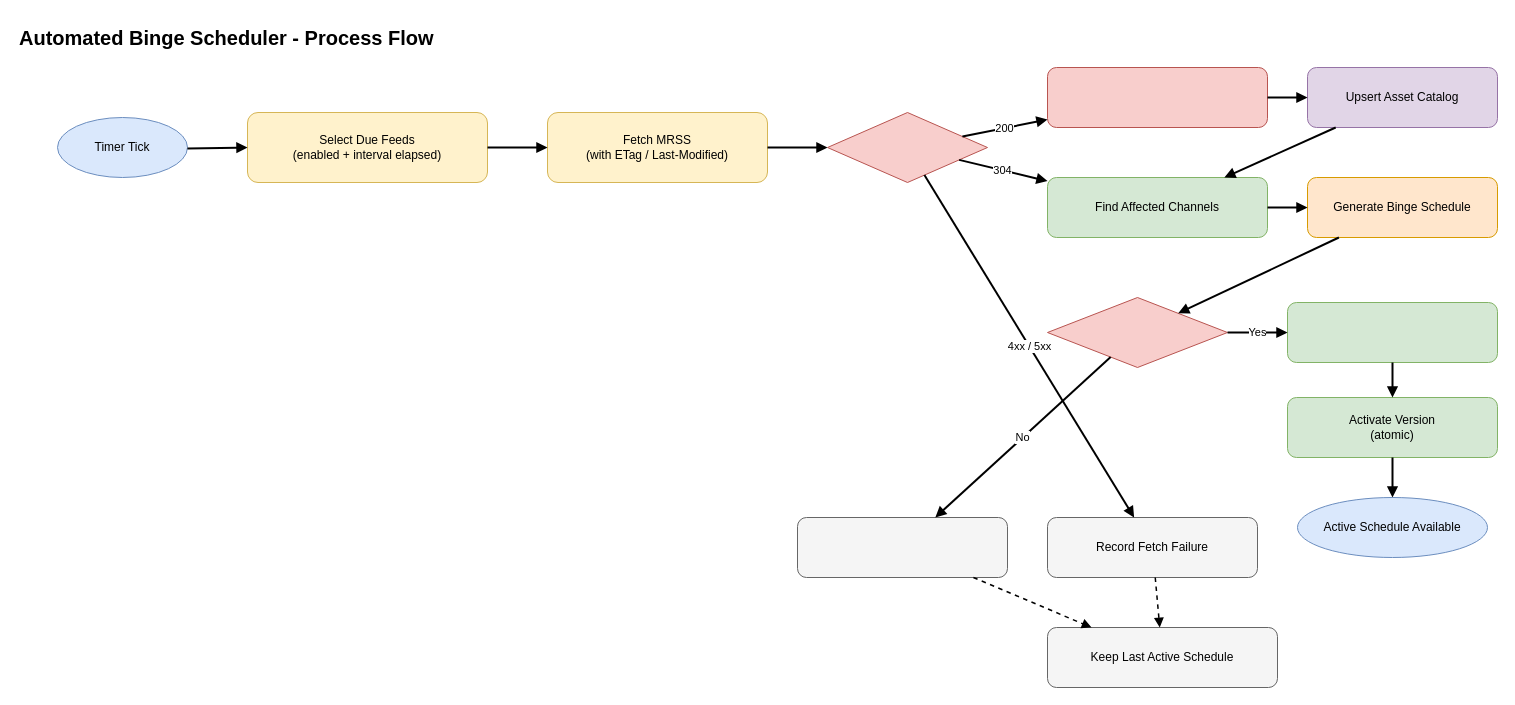
The diagram is 1515 pixels wide and 705 high, and some of its shapes have lost their labels. The centre of each missing label's shape, as x and y in pixels:
"Generation Failed (store diagnostics)" goes at [902,547].
"HTTP Result?" goes at [907,147].
"Parse + Normalize Assets" goes at [1157,97].
"Persist Schedule Version" goes at [1392,332].
"Validation Pass?" goes at [1137,332].
